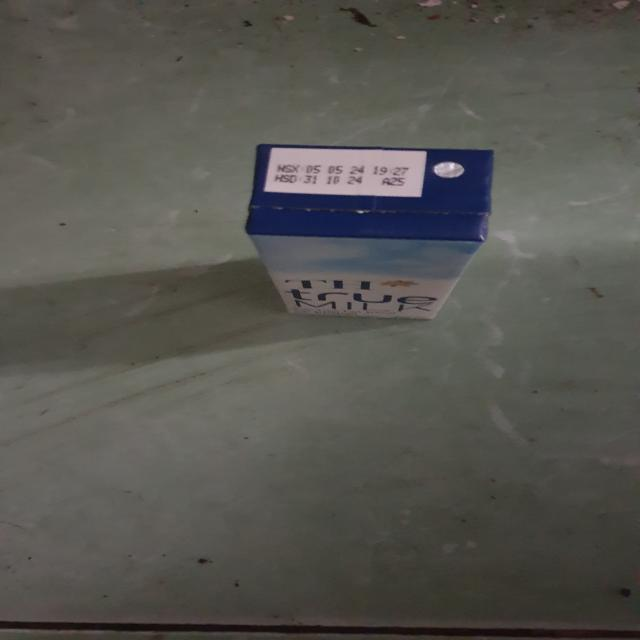TH: (244, 143, 498, 327)
